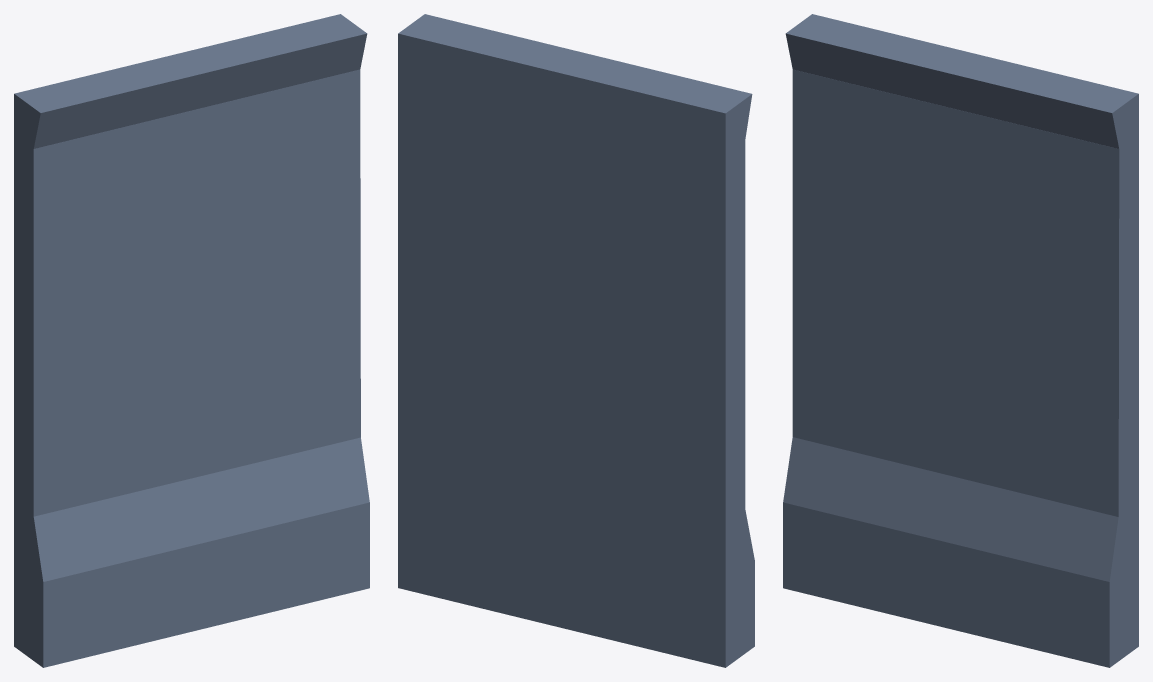
Rendered from Wall asset.fbx.
3 renders of one model, left to right at view 1: azimuth 30°, elevation 25°; view 2: azimuth 150°, elevation 25°; view 3: azimuth 330°, elevation 25°, orthographic.
Visible parts, largest first — view 1: Wall.001; view 2: Wall.001; view 3: Wall.001.
Boxes of the visible parts, x1,y1,x2,y2 form: Wall.001: (14,14,369,667); Wall.001: (398,14,754,667); Wall.001: (783,14,1138,667).
Bounding box in the file's own units: 300 × 485 × 46.43.
